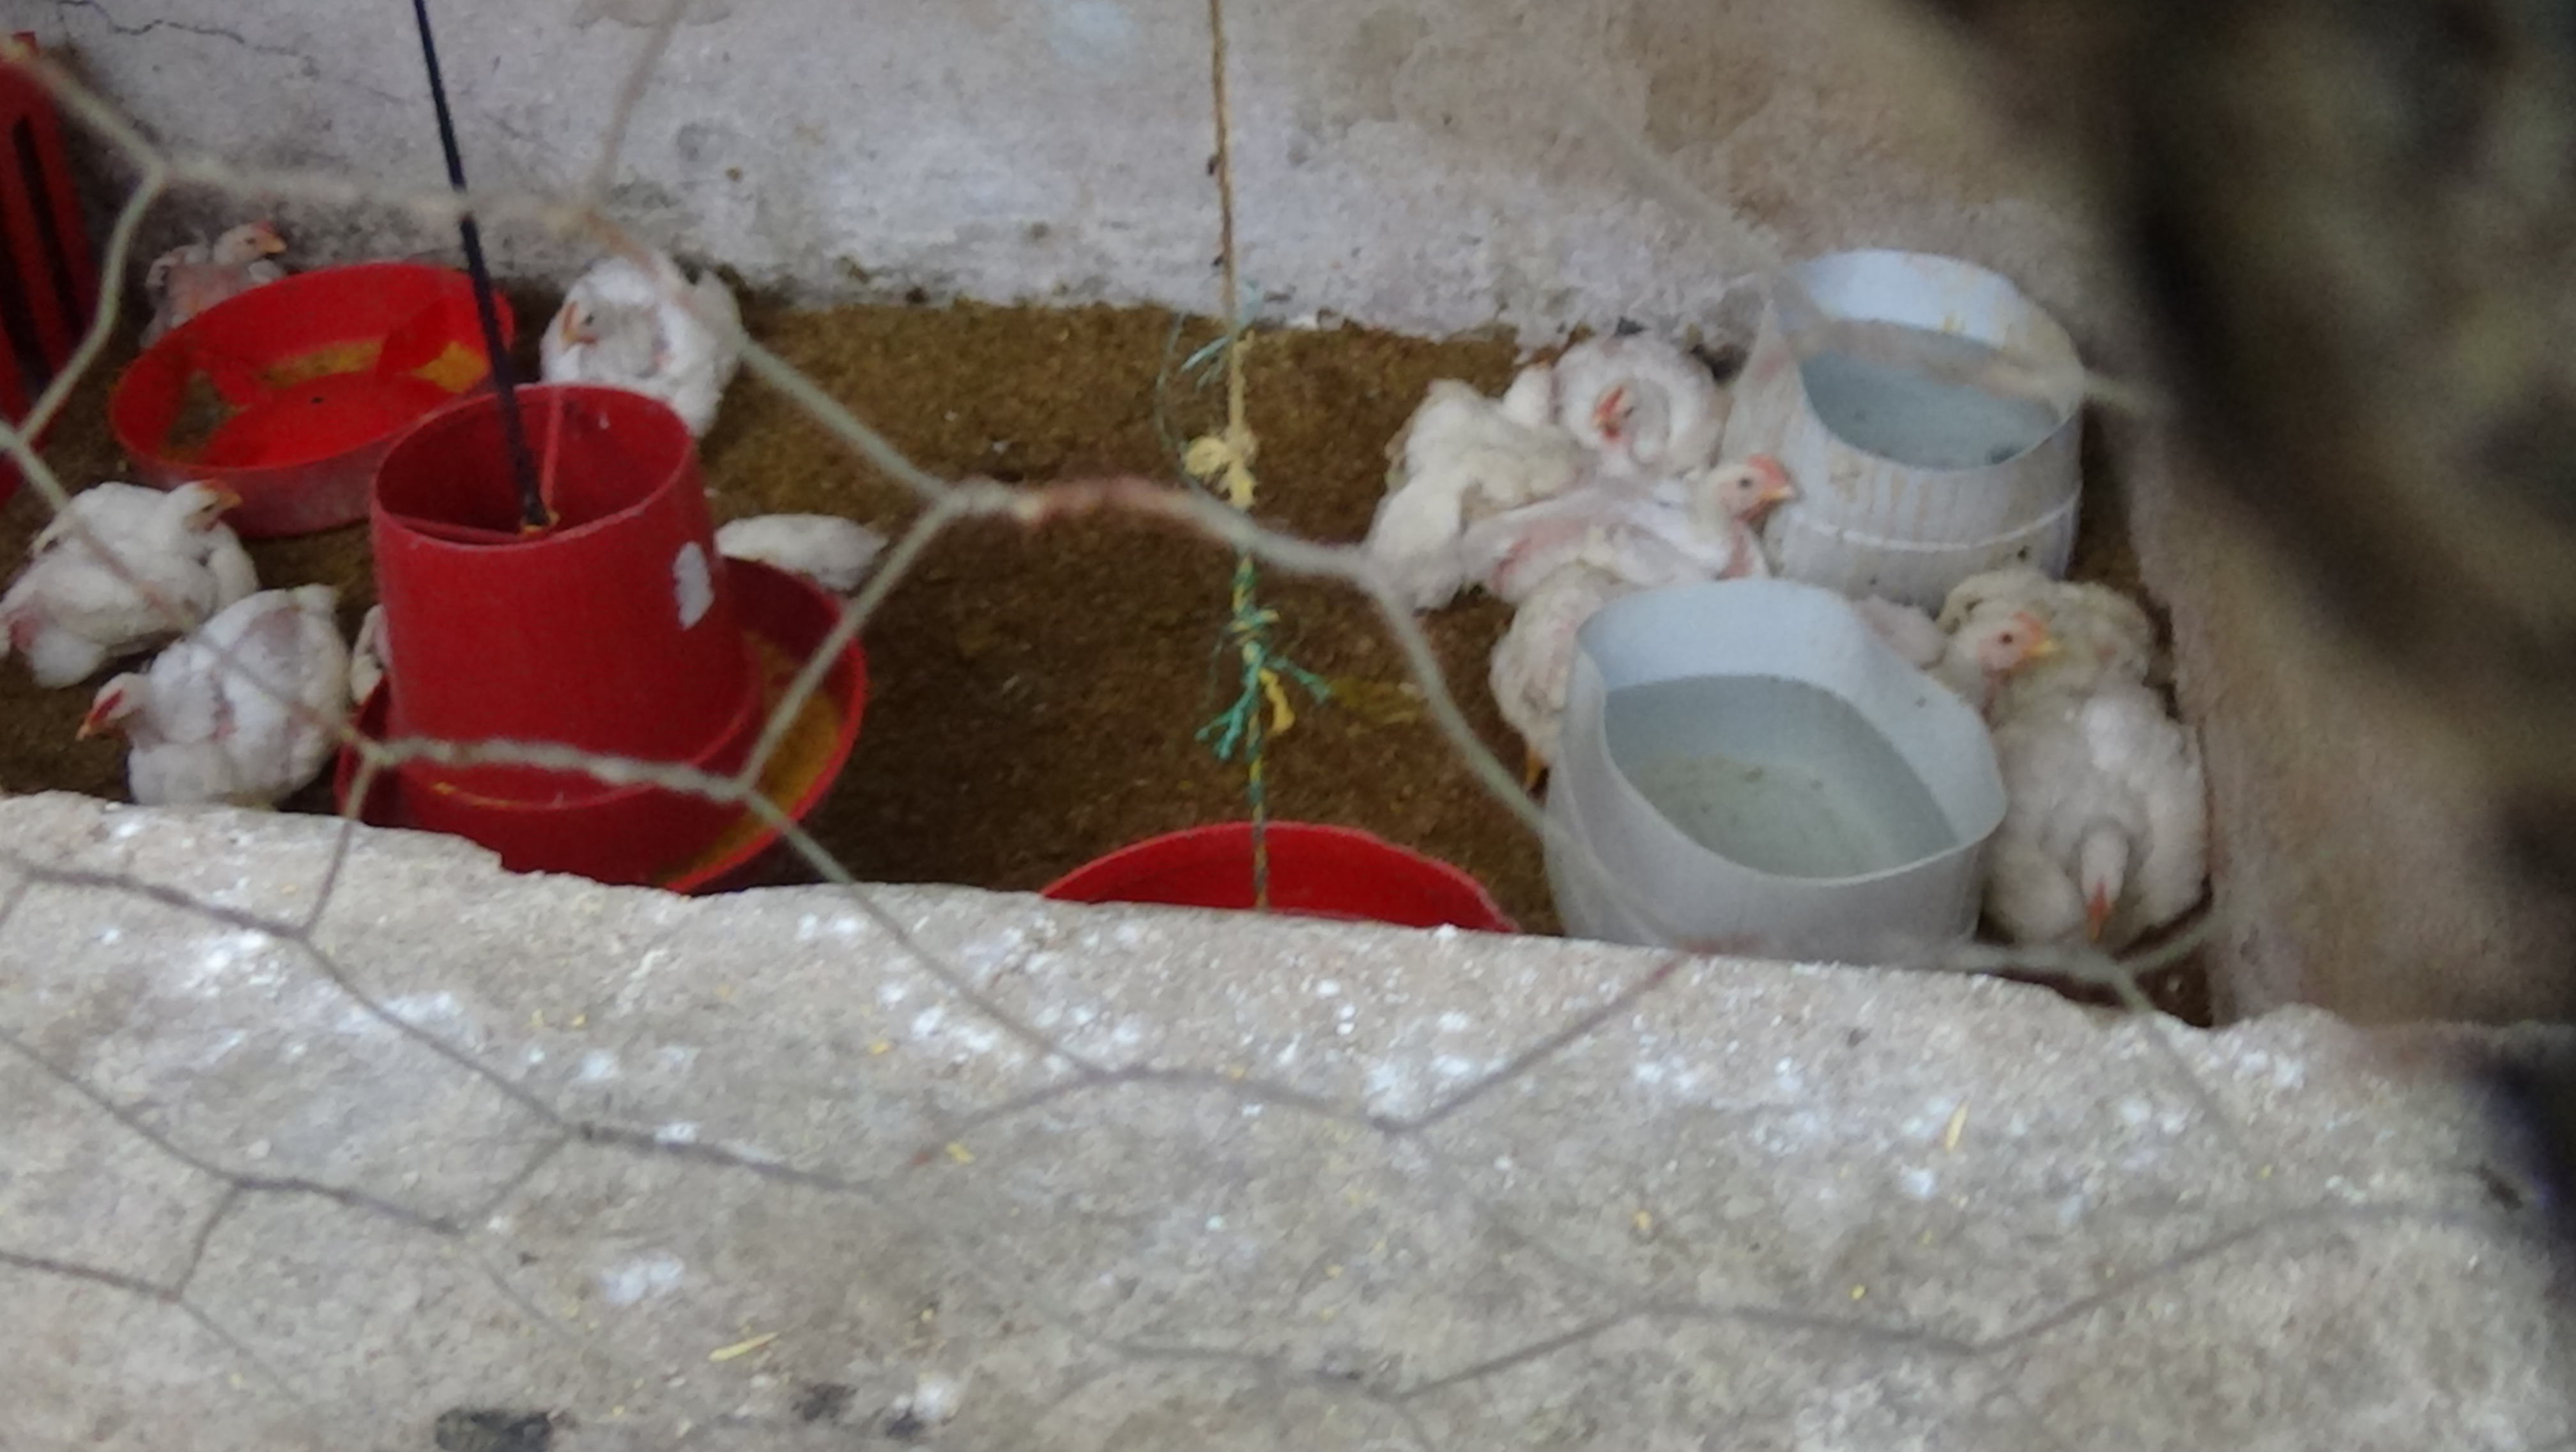Pollos: (57, 593, 384, 813), (506, 202, 782, 434), (1999, 753, 2208, 974), (0, 448, 255, 600), (1368, 338, 1566, 517), (1562, 457, 1812, 593), (706, 487, 924, 620), (145, 202, 308, 338), (1566, 312, 1718, 453), (1907, 613, 2075, 699)
